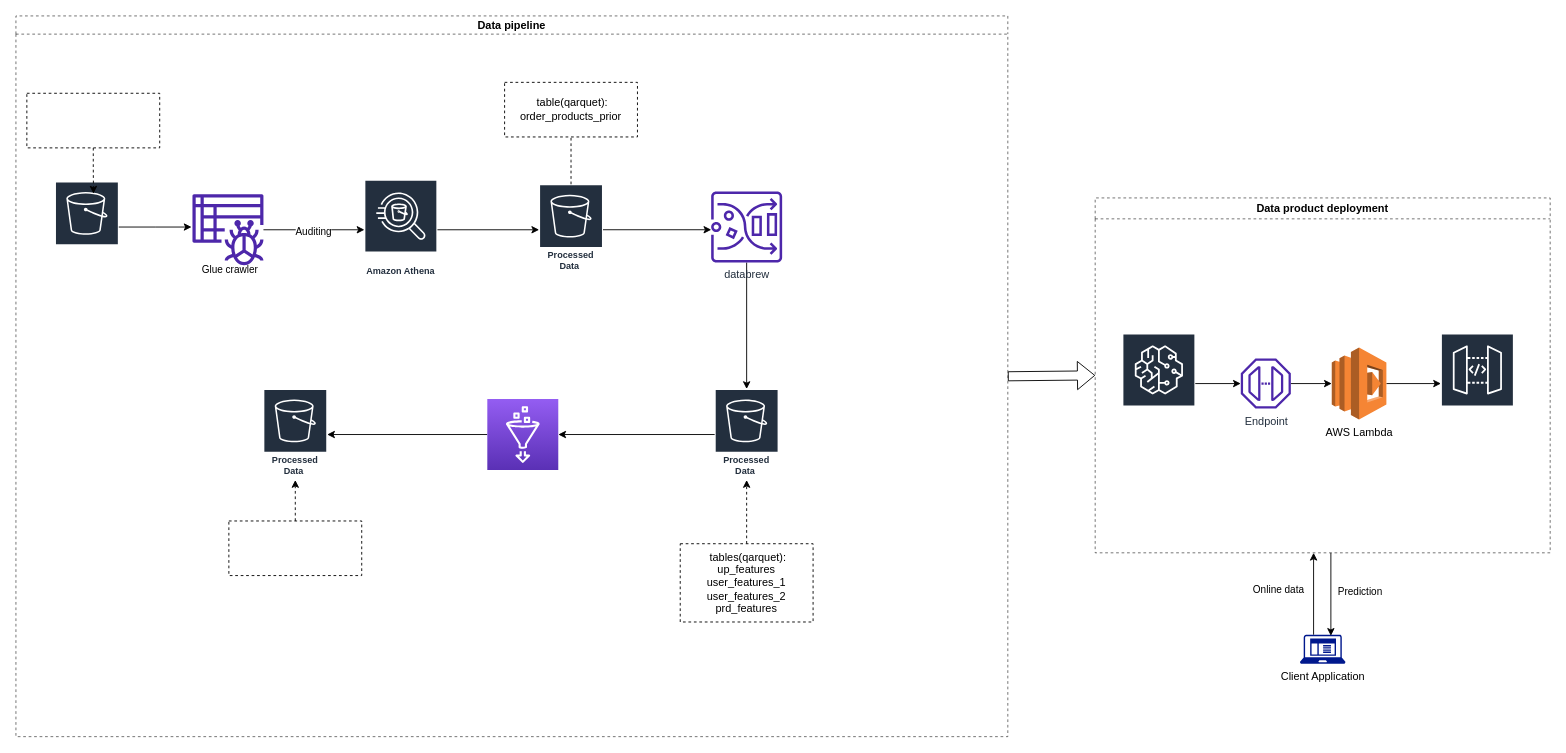
This 1566x753 diagram has some shape labels left out. Here are the shapes that lost their labels. From the top down, the centre of each, then its label:
At point 93,120: "Raw Data (csv)".
At point 86,227: "IMBA Landing Bucket".
At point 1158,383: "Amazon SageMaker".
At point 1477,383: "Amazon API Gateway".
At point 522,434: "Glue Job".
At point 295,548: "table(csv): reasults".
